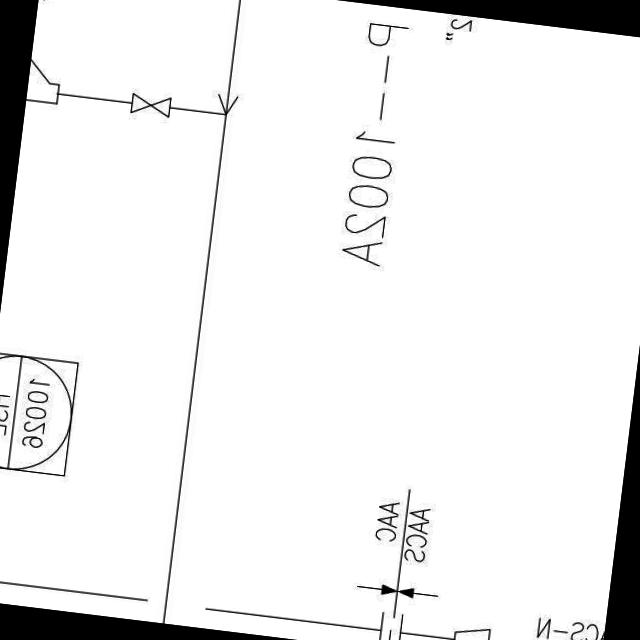GV: (126, 90, 173, 118)
SP: (443, 617, 496, 640)
